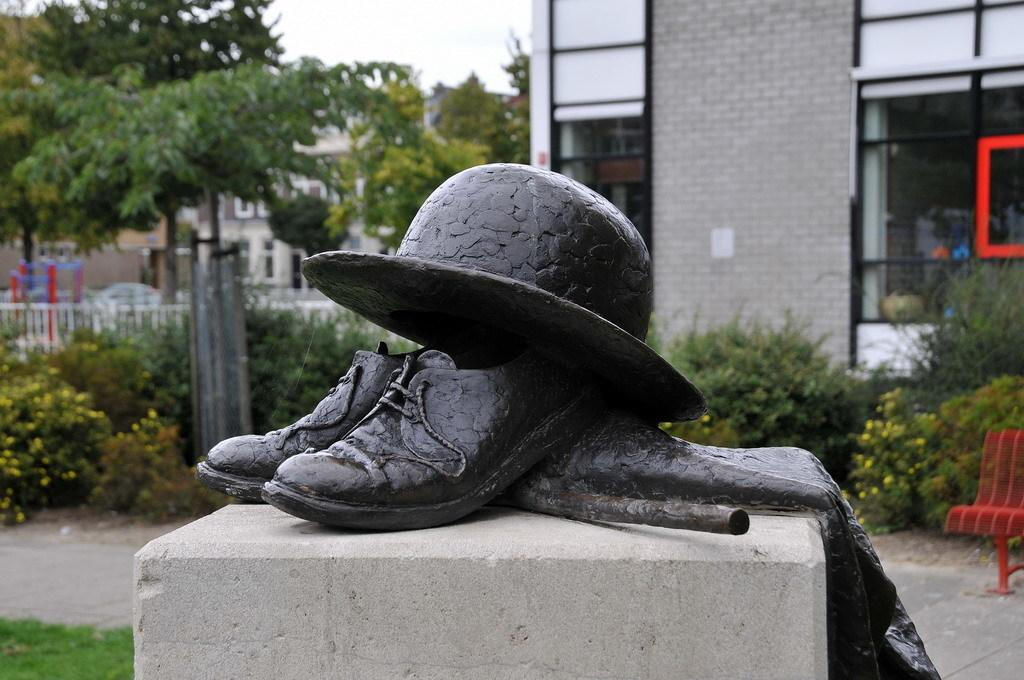Hat: (300, 165, 710, 424)
